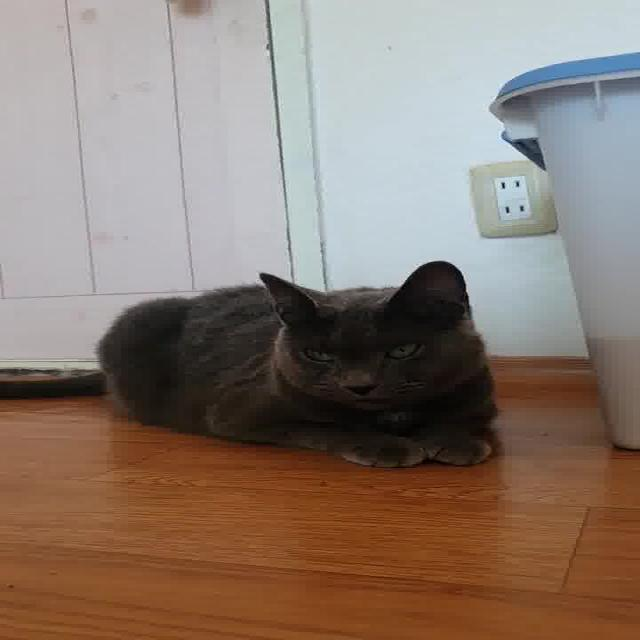cat: (0, 240, 523, 477)
